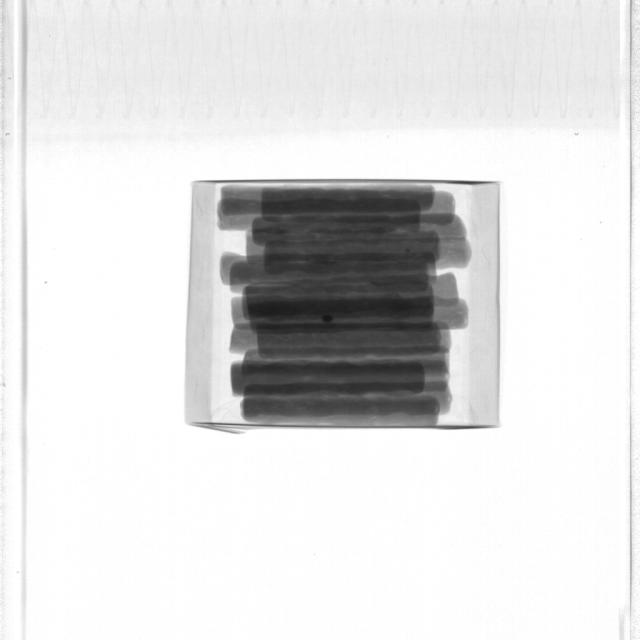ym: (322, 315, 334, 323), (406, 248, 410, 253)
